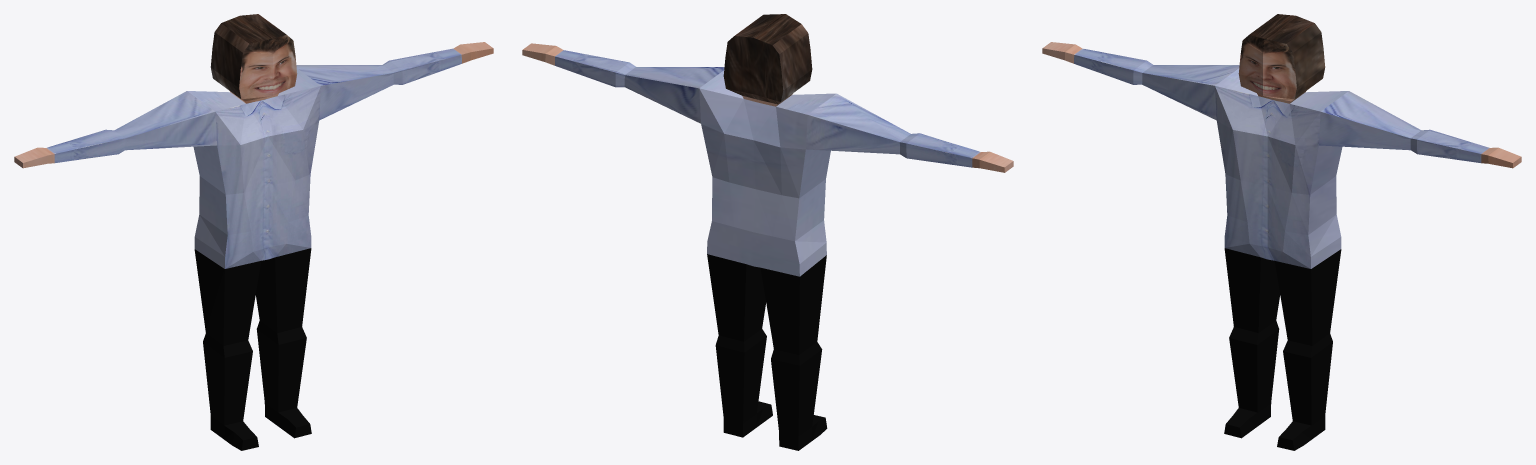
File: liam.fbx
3 renders of one model, left to right at view 1: azimuth 30°, elevation 25°; view 2: azimuth 150°, elevation 25°; view 3: azimuth 330°, elevation 25°, orthographic. The views are drawn at different scales.
Visible parts, largest first — view 1: liam; view 2: liam; view 3: liam.
Boxes of the visible parts, x1,y1,x2,y2 form: liam: (14,14,493,450); liam: (522,14,1013,450); liam: (1042,14,1521,450).
Bounding box in the file's own units: 1916 × 1555 × 268.
1 material, 1 textured.
